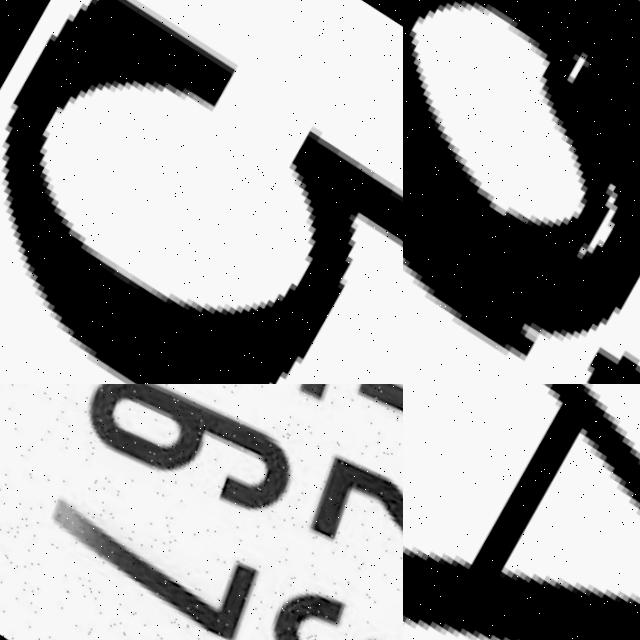1: (332, 384, 403, 507)
2: (275, 400, 403, 640)
3: (231, 528, 403, 640)
5: (0, 0, 403, 384), (96, 384, 368, 438)
6: (403, 0, 640, 384), (52, 384, 325, 560)
7: (7, 443, 275, 640)
A: (403, 384, 640, 640)
